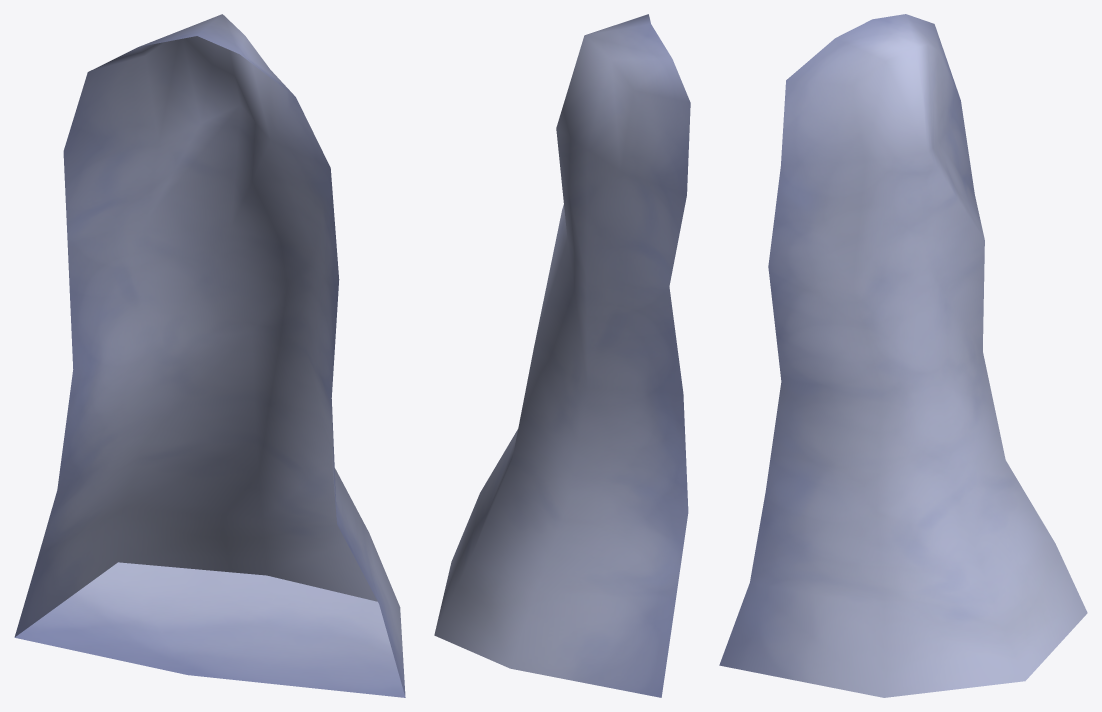
Rendered from snow_pile_03.fbx.
3 renders of one model, left to right at view 1: azimuth 30°, elevation 25°; view 2: azimuth 150°, elevation 25°; view 3: azimuth 270°, elevation 25°, orthographic. The views are drawn at different scales.
Parts seen in each view (by area): view 1: snow_pile_03; view 2: snow_pile_03; view 3: snow_pile_03.
Boxes of the visible parts, bbox=[...] form: snow_pile_03: bbox=[14, 14, 405, 697]; snow_pile_03: bbox=[434, 14, 690, 697]; snow_pile_03: bbox=[719, 14, 1087, 697].
Bounding box in the file's own units: 4.49 × 8.97 × 5.02.
